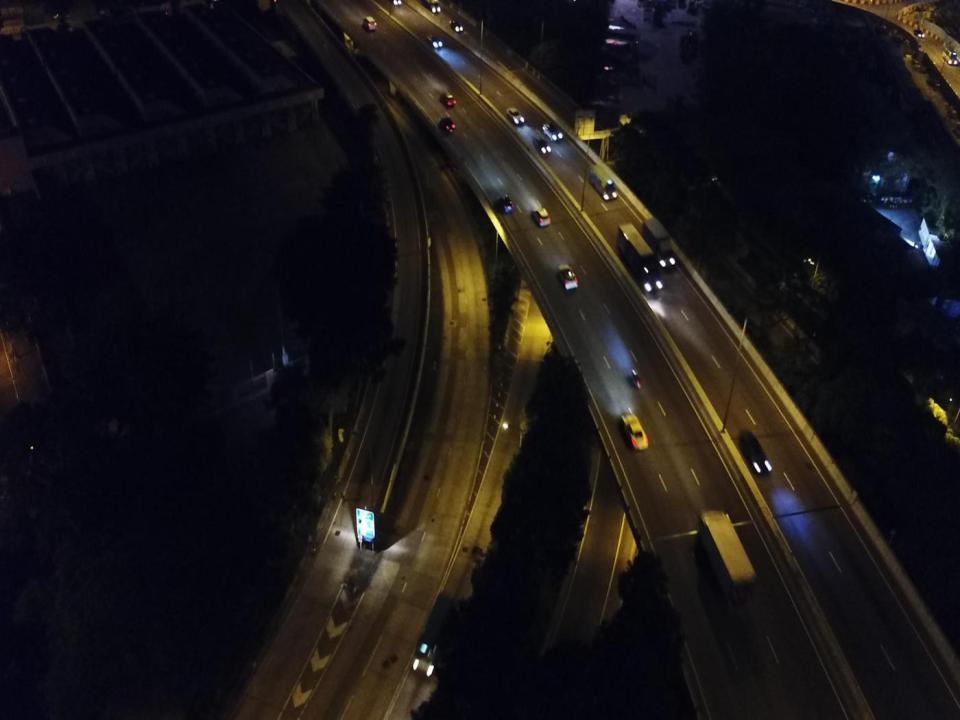bus: (942, 47, 958, 64)
car: (736, 430, 772, 474), (621, 413, 648, 450), (558, 264, 578, 289), (531, 206, 551, 228), (532, 136, 551, 153), (498, 194, 514, 214), (544, 124, 562, 141), (506, 108, 525, 124), (440, 92, 456, 109), (439, 118, 455, 132), (448, 19, 464, 33), (425, 36, 442, 48), (913, 30, 925, 38)
truck: (697, 511, 756, 609), (414, 588, 458, 678), (618, 223, 661, 291), (643, 218, 675, 268)
van: (588, 164, 616, 199), (364, 16, 376, 32)
